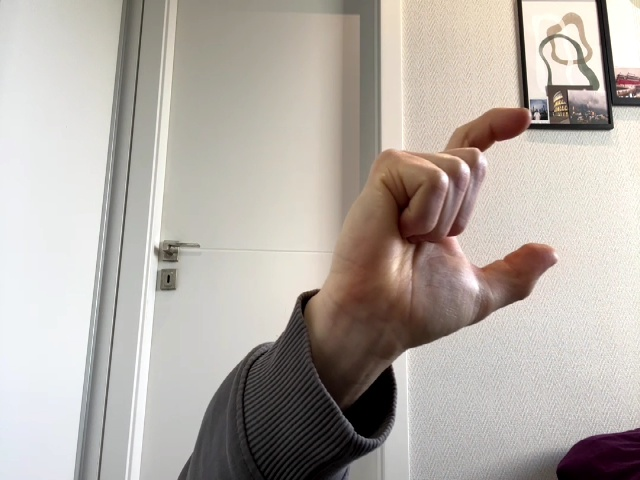C: (325, 108, 558, 349)
